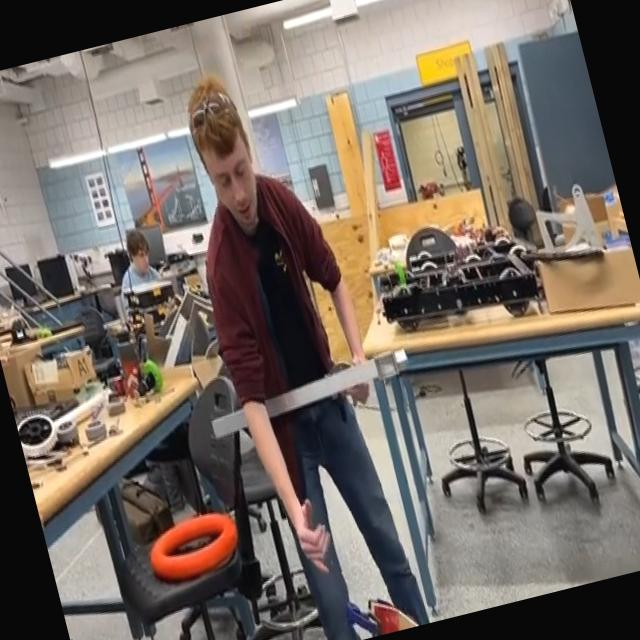note: (138, 500, 250, 592)
